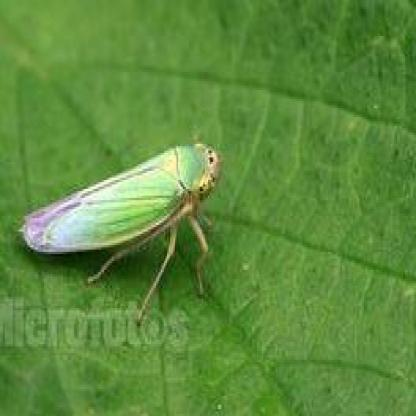Green-Leafhopper: (18, 145, 222, 316)
